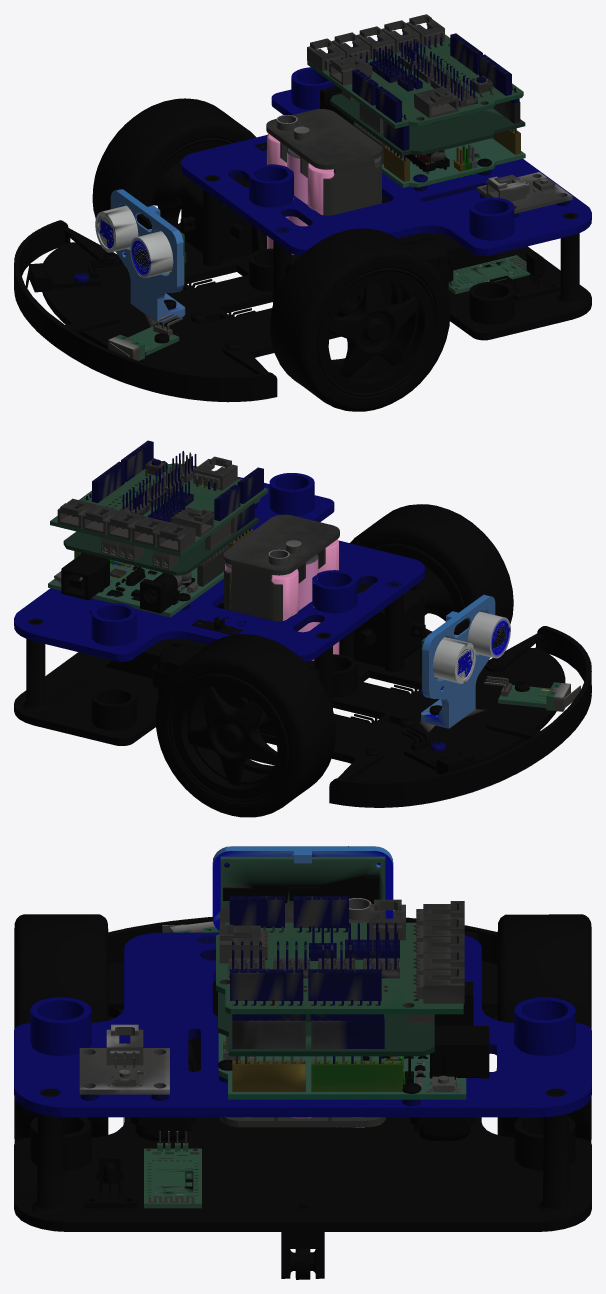
The model's file is line_follower.glb.
3 views of the same model, one above another, from view 1: azimuth 30°, elevation 25°; view 2: azimuth 150°, elevation 25°; view 3: azimuth 270°, elevation 25° (orthographic). The views are drawn at different scales.
Visible parts, largest first — view 1: Object_58.001; view 2: Object_58.001; view 3: Object_58.001.
Boxes of the visible parts, <box> form: Object_58.001: <box>14,14,591,411</box>; Object_58.001: <box>14,440,591,817</box>; Object_58.001: <box>14,846,591,1279</box>.
Size of the model in its own units: 0.9415 by 0.4622 by 0.7809.
1 material, 1 textured.
